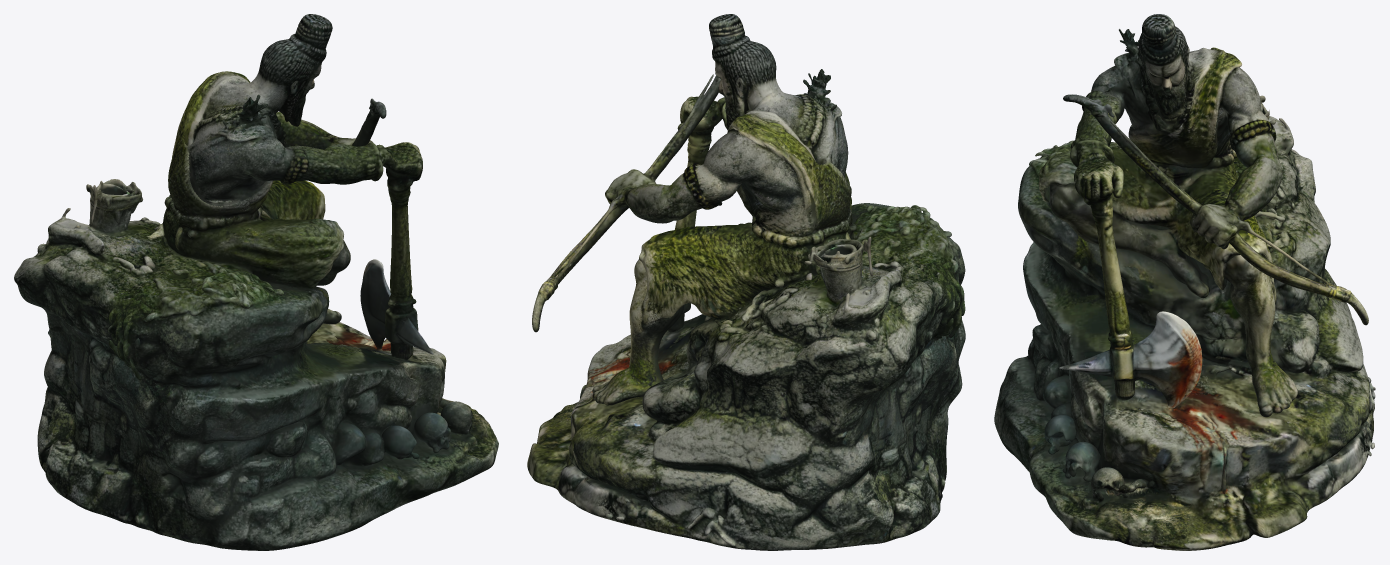
Rendered from tripo_convert_7730ba3d-c62b-4912-b14e-472ea1dbf615.fbx.
3 views of the same model, side by side, from view 1: azimuth 30°, elevation 25°; view 2: azimuth 150°, elevation 25°; view 3: azimuth 270°, elevation 25° (orthographic).
Visible parts, largest first — view 1: tripo_node_7730ba3d; view 2: tripo_node_7730ba3d; view 3: tripo_node_7730ba3d.
Part boxes in pixels (box(x1,y1,x2,y2)): tripo_node_7730ba3d: box(14, 14, 498, 550); tripo_node_7730ba3d: box(527, 14, 965, 550); tripo_node_7730ba3d: box(994, 14, 1375, 550).
Bounding box in the file's own units: 0.9511 × 1 × 0.7619.
Materials: 1 (1 with a texture image).
